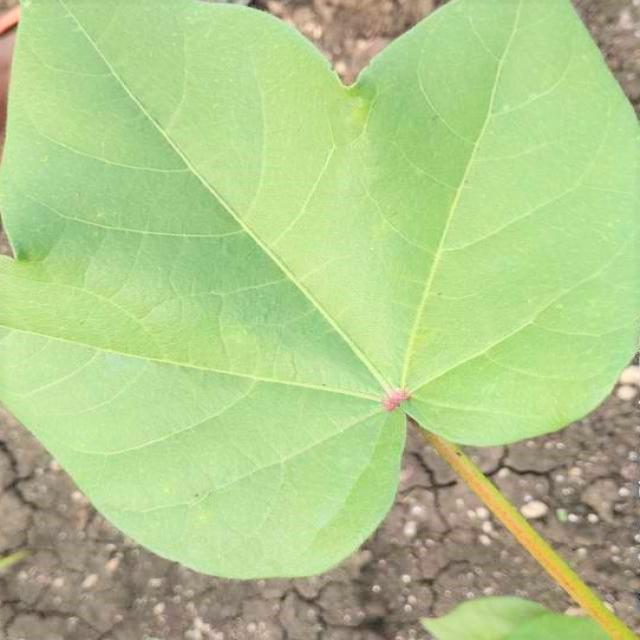Healthy Leaf: (118, 99, 515, 410)
